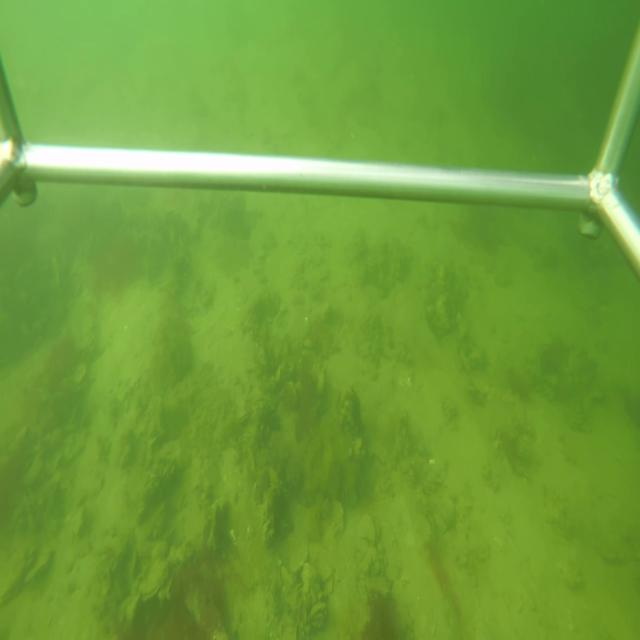Oyster-Closed: (134, 557, 172, 606)
